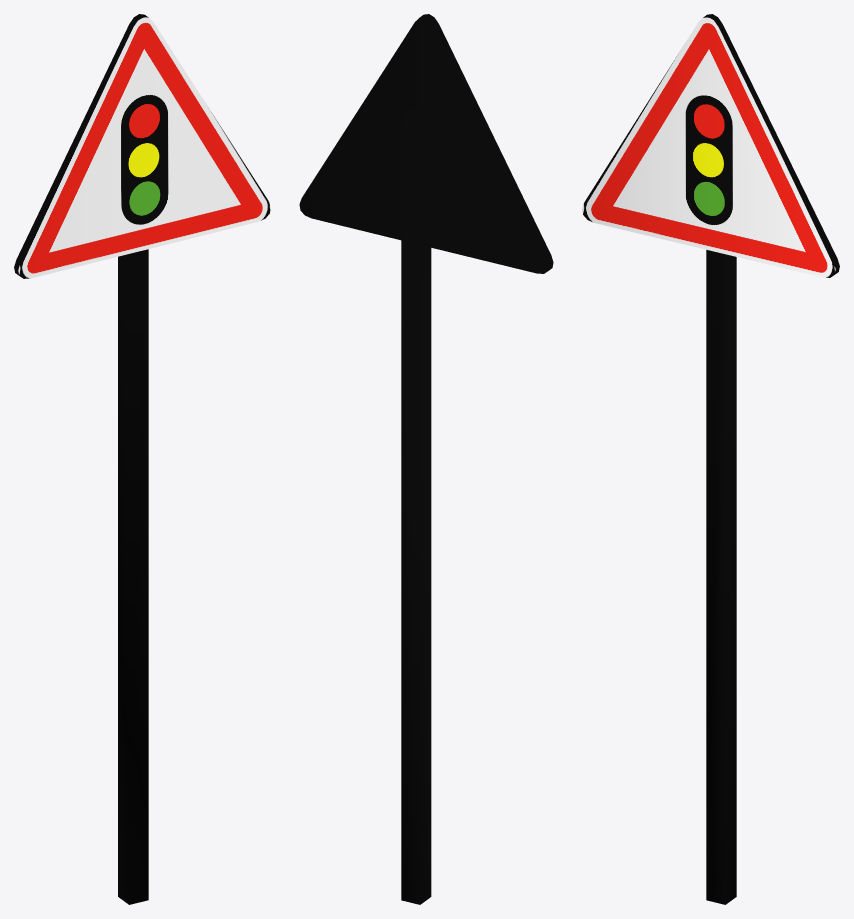
The model's file is traffic50m.obj.
3 renders of one model, left to right at view 1: azimuth 30°, elevation 25°; view 2: azimuth 150°, elevation 25°; view 3: azimuth 330°, elevation 25°, orthographic.
Visible parts, largest first — view 1: Sign_PriorityToTheRight; view 2: Sign_PriorityToTheRight; view 3: Sign_PriorityToTheRight.
Boxes of the visible parts, bbox=[...] form: Sign_PriorityToTheRight: bbox=[14, 14, 270, 904]; Sign_PriorityToTheRight: bbox=[299, 14, 553, 904]; Sign_PriorityToTheRight: bbox=[582, 14, 839, 904].
Bounding box in the file's own units: 1.47 × 4.94 × 0.1792.
1 material, 1 textured.
